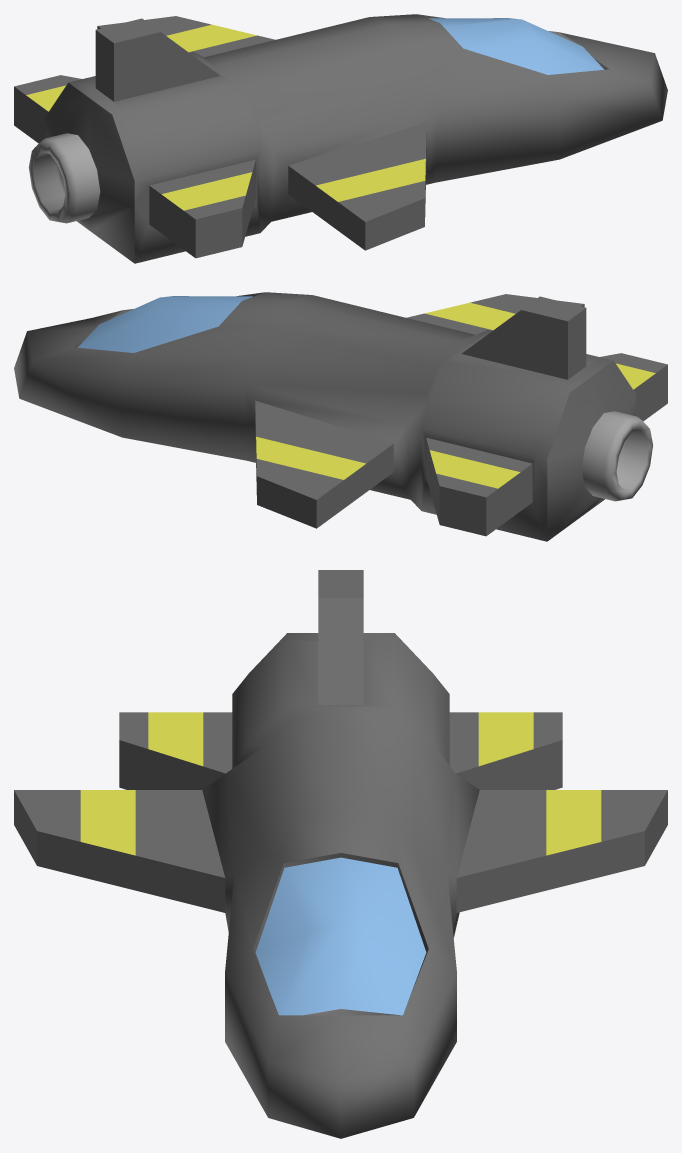
File: SpaceshipSpeeder.glb
3 views of the same model, one above another, from view 1: azimuth 30°, elevation 25°; view 2: azimuth 150°, elevation 25°; view 3: azimuth 270°, elevation 25° (orthographic). The views are drawn at different scales.
Visible parts, largest first — view 1: Cube.002; view 2: Cube.002; view 3: Cube.002.
Part boxes in pixels (left/top/right/bottom): Cube.002: left=14, top=14, right=667, bottom=263; Cube.002: left=14, top=292, right=667, bottom=541; Cube.002: left=14, top=570, right=667, bottom=1138.
Bounding box in the file's own units: 10.02 × 2.96 × 7.52.
